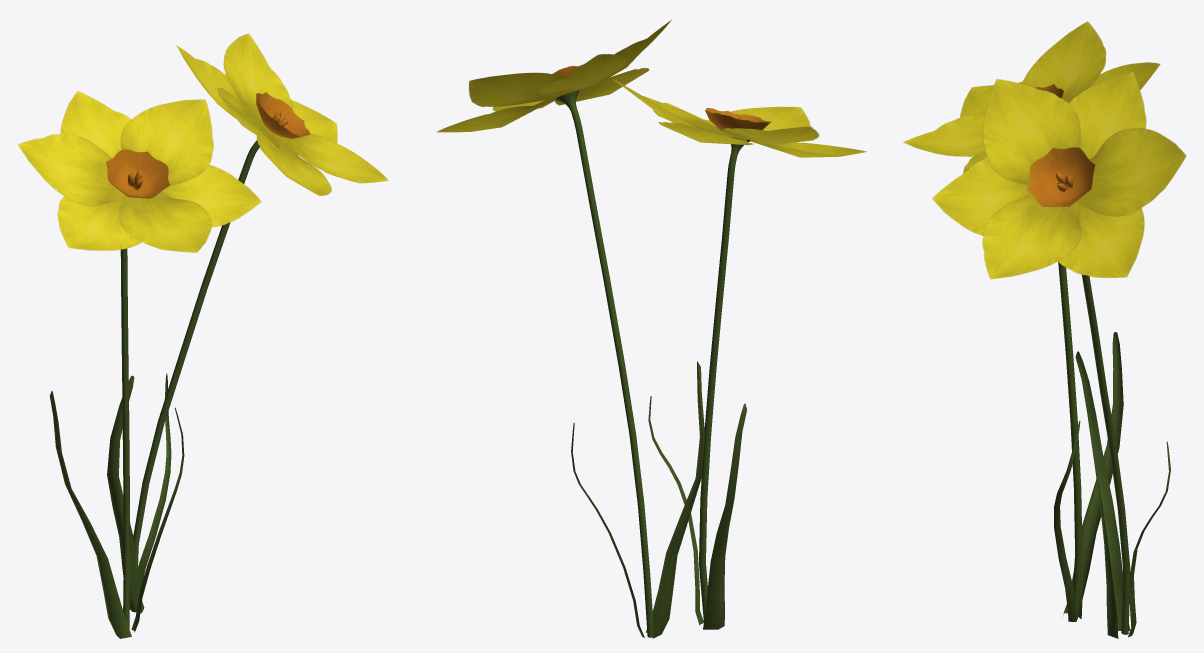
File: flower_yellow.glb
3 views of the same model, side by side, from view 1: azimuth 30°, elevation 25°; view 2: azimuth 150°, elevation 25°; view 3: azimuth 270°, elevation 25° (orthographic). The views are drawn at different scales.
Parts seen in each view (by area): view 1: Cylinder.002, Cylinder.001; view 2: Cylinder.001, Cylinder.002; view 3: Cylinder.001, Cylinder.002.
Boxes of the visible parts, left/top/right/bottom form: Cylinder.002: left=18, top=91, right=261, bottom=638; Cylinder.001: left=107, top=33, right=388, bottom=613; Cylinder.001: left=437, top=19, right=704, bottom=638; Cylinder.002: left=613, top=79, right=866, bottom=629; Cylinder.001: left=932, top=71, right=1186, bottom=638; Cylinder.002: left=903, top=21, right=1160, bottom=621.
Size of the model in its own units: 12.57 by 17.85 by 7.8.
2 materials, 2 textured.
